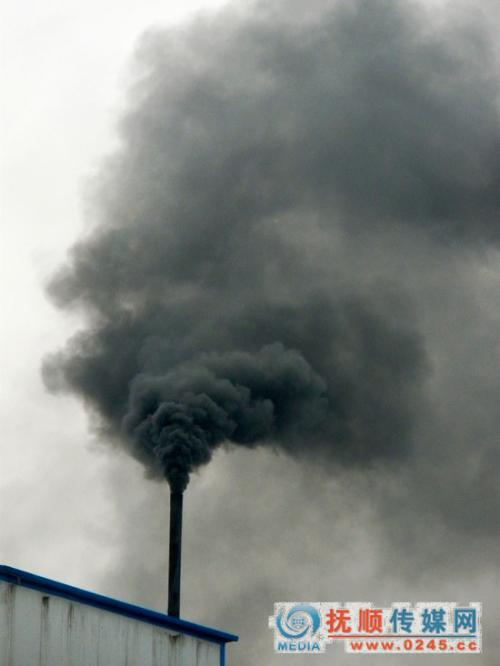smoke: (43, 1, 500, 499)
